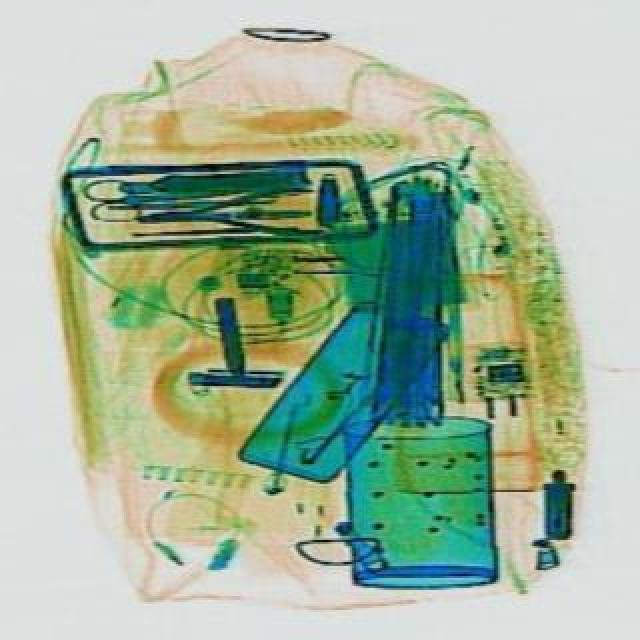pliers: (80, 176, 272, 220)
